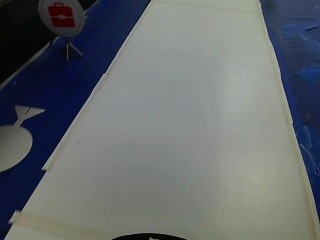company: (34, 0, 88, 36)
